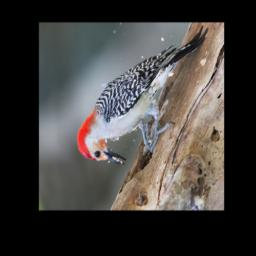Woodpecker: (77, 28, 207, 164)
